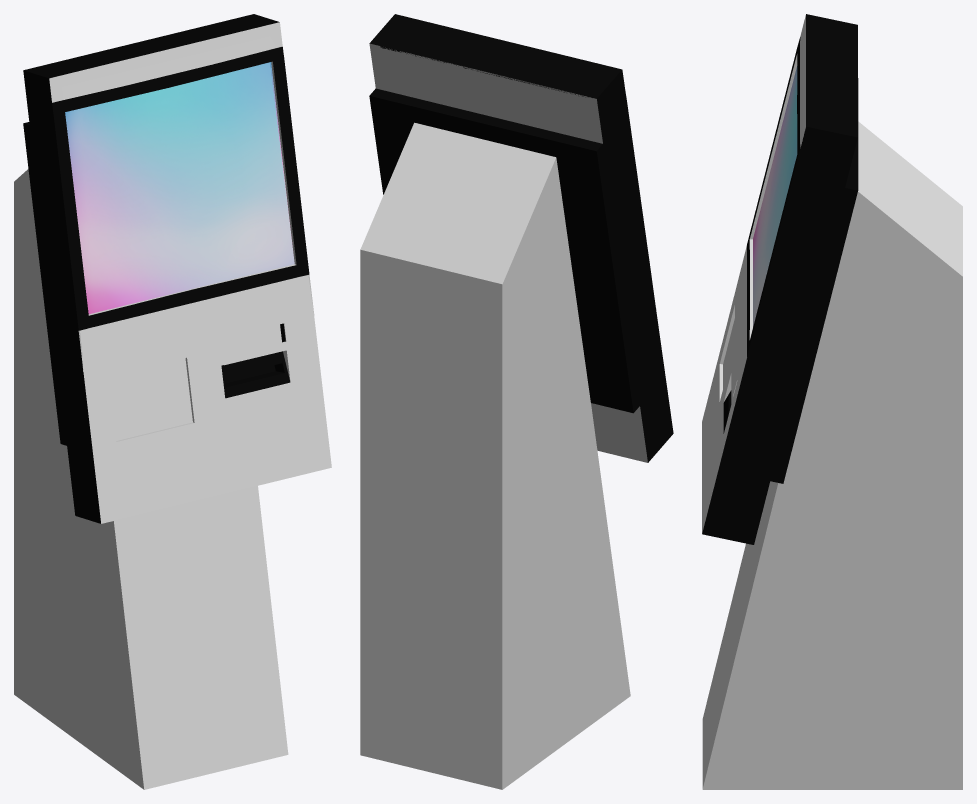
File: registerboxw_coin 1.fbx
3 views of the same model, side by side, from view 1: azimuth 30°, elevation 25°; view 2: azimuth 150°, elevation 25°; view 3: azimuth 270°, elevation 25° (orthographic).
Parts seen in each view (by area): view 1: Cube, Cube.001, Cube.002; view 2: Cube.001, Cube, Cube.002; view 3: Cube.001, Cube, Cube.002.
Boxes of the visible parts, x1=… form: Cube: x1=23, y1=14, x2=331, y2=523; Cube.001: x1=14, y1=169, x2=288, y2=789; Cube.002: x1=23, y1=122, x2=67, y2=445; Cube.001: x1=360, y1=122, x2=630, y2=789; Cube: x1=369, y1=14, x2=673, y2=462; Cube.002: x1=369, y1=88, x2=639, y2=413; Cube.001: x1=702, y1=121, x2=962, y2=789; Cube: x1=702, y1=14, x2=857, y2=544; Cube.002: x1=770, y1=78, x2=858, y2=483.
Bounding box in the file's own units: 80.18 × 227 × 78.32.
5 materials, 1 textured.
